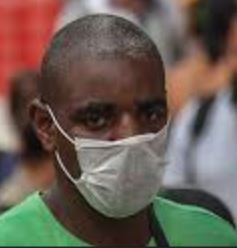with_facemask: (65, 129, 193, 225)
